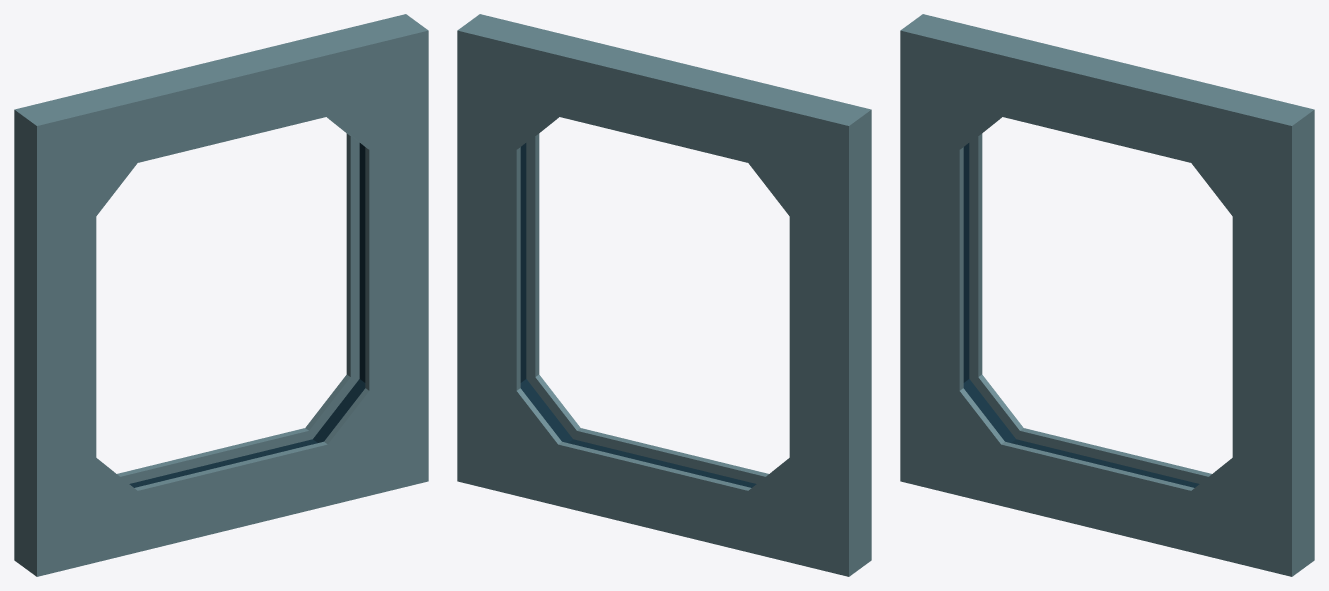
The model's file is W1_WallWindow1B_2m.fbx.
3 views of the same model, side by side, from view 1: azimuth 30°, elevation 25°; view 2: azimuth 150°, elevation 25°; view 3: azimuth 330°, elevation 25° (orthographic).
Parts seen in each view (by area): view 1: W1_WallWindow1B_2m.001; view 2: W1_WallWindow1B_2m.001; view 3: W1_WallWindow1B_2m.001.
Part boxes in pixels (bbox=[...]): W1_WallWindow1B_2m.001: bbox=[14, 14, 428, 576]; W1_WallWindow1B_2m.001: bbox=[457, 14, 871, 576]; W1_WallWindow1B_2m.001: bbox=[900, 14, 1314, 576].
Bounding box in the file's own units: 2 × 2.2 × 0.2.
